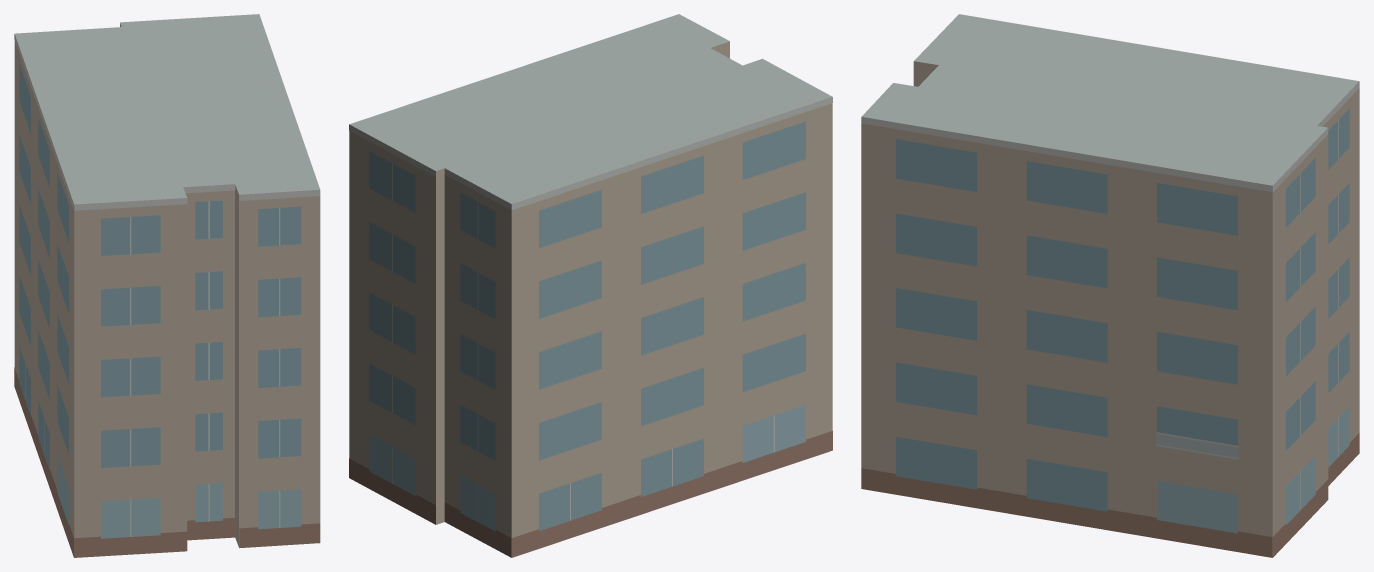
Rendered from survey-upis-32681409.glb.
3 views of the same model, side by side, from view 1: azimuth 30°, elevation 25°; view 2: azimuth 150°, elevation 25°; view 3: azimuth 270°, elevation 25° (orthographic). The views are drawn at different scales.
Visible parts, largest first — view 1: survey-upis-32681409.tmp; view 2: survey-upis-32681409.tmp; view 3: survey-upis-32681409.tmp.
Part boxes in pixels (x1,y1,x2,y2): survey-upis-32681409.tmp: (14, 14, 320, 557); survey-upis-32681409.tmp: (349, 14, 832, 557); survey-upis-32681409.tmp: (861, 14, 1359, 557).
Size of the model in its own units: 13.67 by 13.8 by 16.75.
